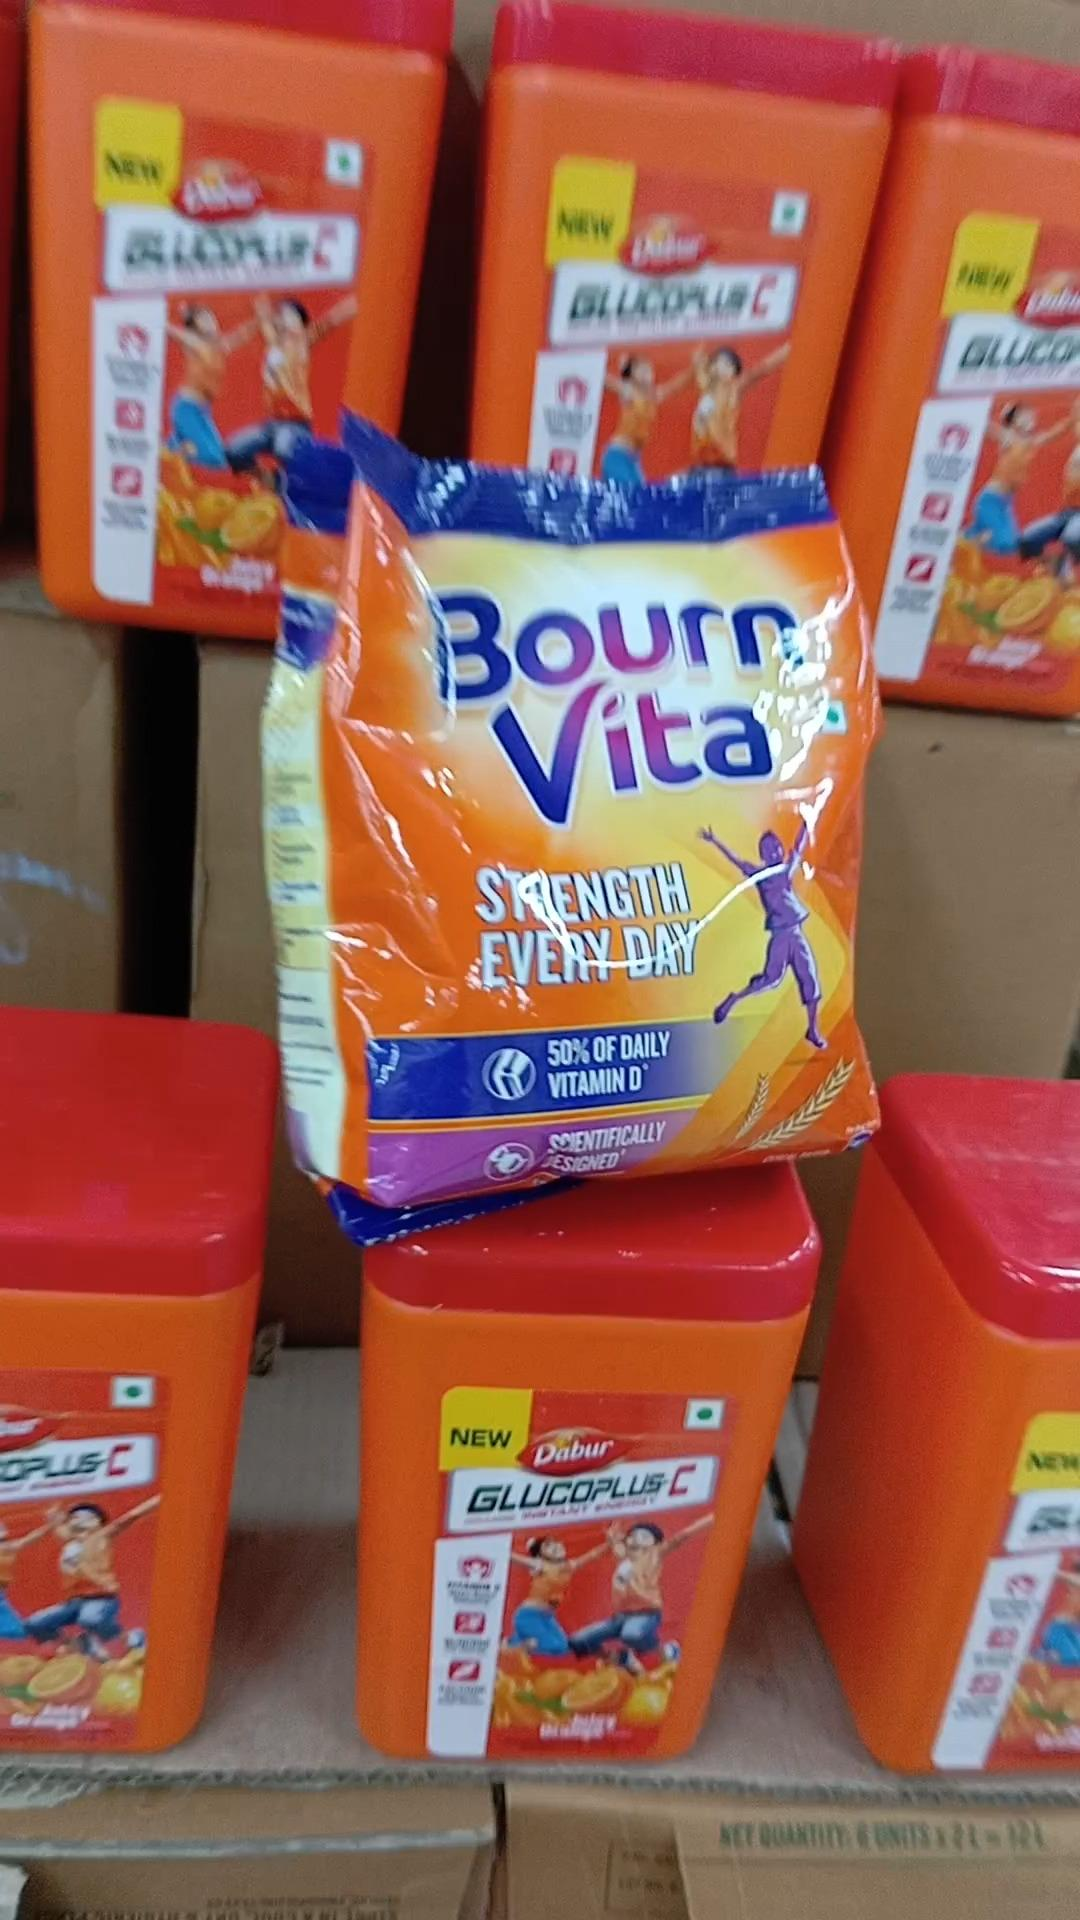BOURN_VITA_500_G_POUCH: (299, 430, 876, 1199)
